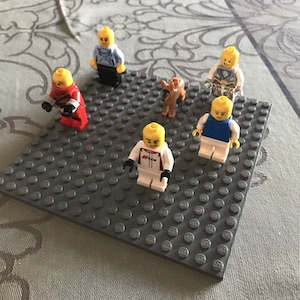Lego: (127, 123, 174, 195), (191, 98, 242, 162), (45, 68, 89, 133), (204, 47, 246, 107), (90, 26, 128, 89)
